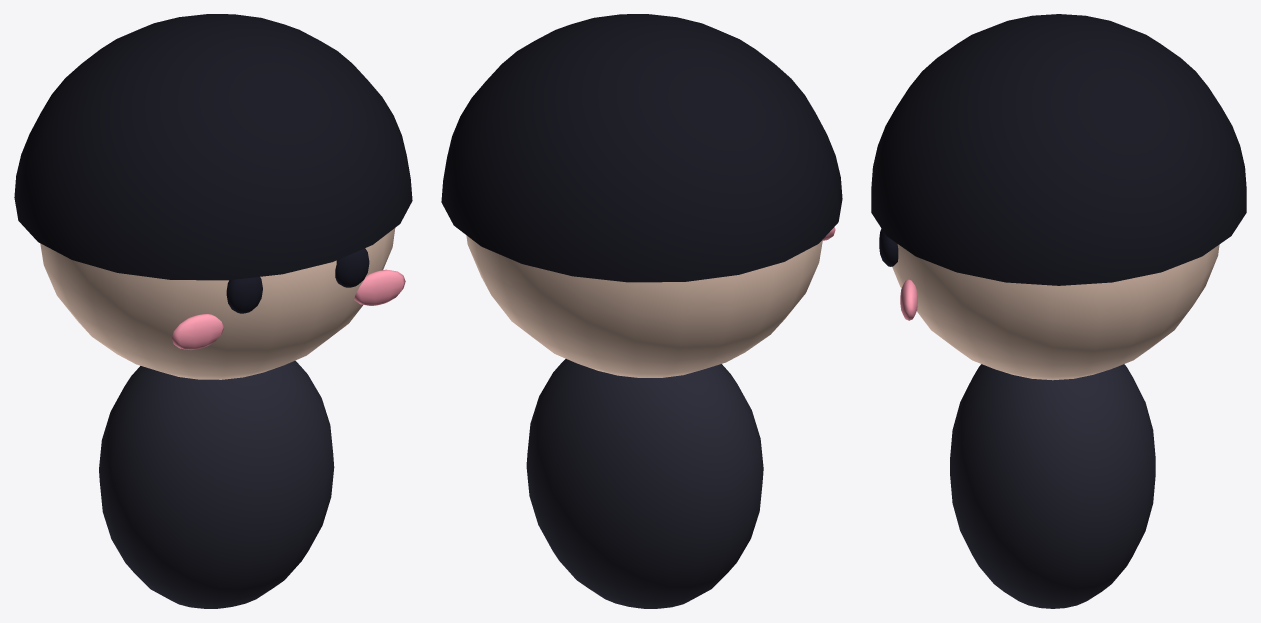
Rendered from megumi.placeholder.glb.
3 renders of one model, left to right at view 1: azimuth 30°, elevation 25°; view 2: azimuth 150°, elevation 25°; view 3: azimuth 270°, elevation 25°, orthographic.
Visible parts, largest first — view 1: Hair, Body, Head, CheekL, CheekR, EyeL, EyeR; view 2: Hair, Body, Head; view 3: Hair, Body, Head, CheekR, EyeR.
Part boxes in pixels (x1=…): Hair: x1=14, y1=14, x2=412, y2=280; Body: x1=99, y1=360, x2=334, y2=608; Head: x1=40, y1=228, x2=395, y2=379; CheekL: x1=172, y1=314, x2=223, y2=349; CheekR: x1=354, y1=269, x2=405, y2=305; EyeL: x1=226, y1=277, x2=262, y2=313; EyeR: x1=335, y1=248, x2=369, y2=287; Hair: x1=441, y1=14, x2=842, y2=282; Body: x1=526, y1=359, x2=763, y2=608; Head: x1=466, y1=235, x2=822, y2=377; Hair: x1=871, y1=14, x2=1246, y2=285; Body: x1=950, y1=364, x2=1155, y2=608; Head: x1=892, y1=244, x2=1219, y2=380; CheekR: x1=900, y1=279, x2=917, y2=320; EyeR: x1=879, y1=228, x2=898, y2=266.
Size of the model in its own units: 0.66 by 1.02 by 0.6137.
